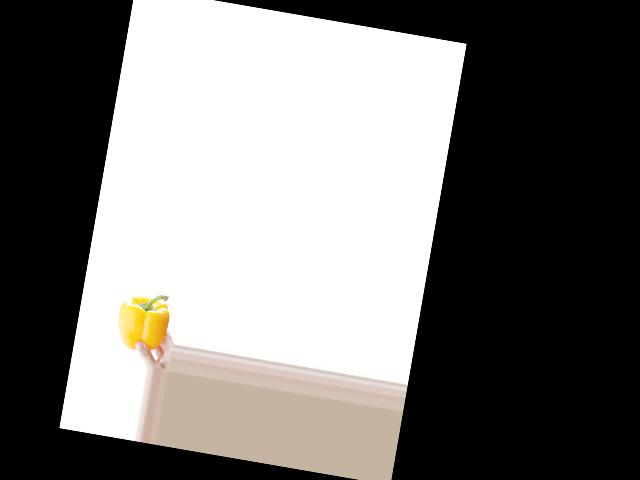bell_pepper: (112, 285, 173, 356)
